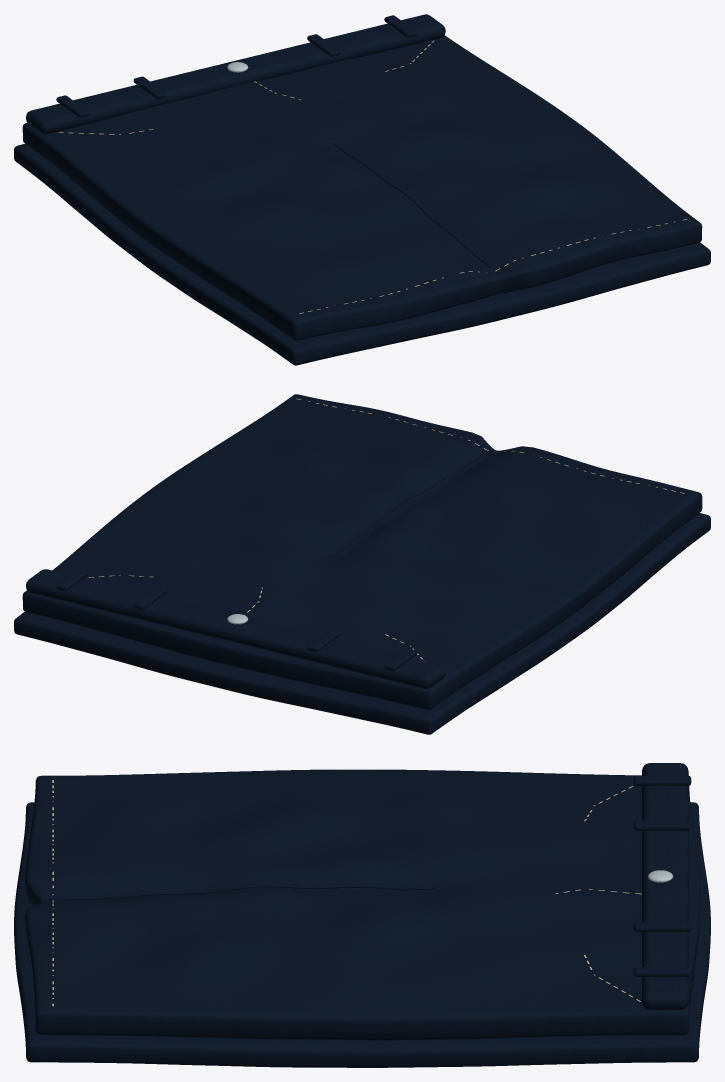
Rendered from Folded_Pants_cm.glb.
The picture shows the model from 3 angles, top to bottom: view 1: azimuth 30°, elevation 25°; view 2: azimuth 150°, elevation 25°; view 3: azimuth 270°, elevation 25°; orthographic projection. The views are drawn at different scales.
Parts seen in each view (by area): view 1: Pants_FoldedLegTop, Pants_FoldedLegBottom, Pants_Waistband; view 2: Pants_FoldedLegTop, Pants_FoldedLegBottom, Pants_Waistband; view 3: Pants_FoldedLegTop, Pants_FoldedLegBottom, Pants_Waistband, Pants_CentralFoldSeam, Pants_BeltLoop, Pants_BeltLoop.001, Pants_BeltLoop.002, Pants_BeltLoop.003.
Part boxes in pixels (x1=…): Pants_FoldedLegTop: x1=22, y1=35, x2=702, y2=340; Pants_FoldedLegBottom: x1=14, y1=143, x2=710, y2=365; Pants_Waistband: x1=26, y1=14, x2=445, y2=134; Pants_FoldedLegTop: x1=22, y1=394, x2=702, y2=709; Pants_FoldedLegBottom: x1=14, y1=513, x2=710, y2=734; Pants_Waistband: x1=26, y1=569, x2=445, y2=688; Pants_FoldedLegTop: x1=25, y1=769, x2=700, y2=1040; Pants_FoldedLegBottom: x1=14, y1=802, x2=710, y2=1067; Pants_Waistband: x1=642, y1=763, x2=688, y2=1009; Pants_CentralFoldSeam: x1=63, y1=885, x2=435, y2=900; Pants_BeltLoop: x1=634, y1=775, x2=691, y2=785; Pants_BeltLoop.001: x1=634, y1=820, x2=691, y2=830; Pants_BeltLoop.002: x1=634, y1=922, x2=691, y2=931; Pants_BeltLoop.003: x1=634, y1=967, x2=691, y2=976.
Size of the model in its own units: 9.11 by 1.14 by 10.48.
Materials: 3 (1 with a texture image).
